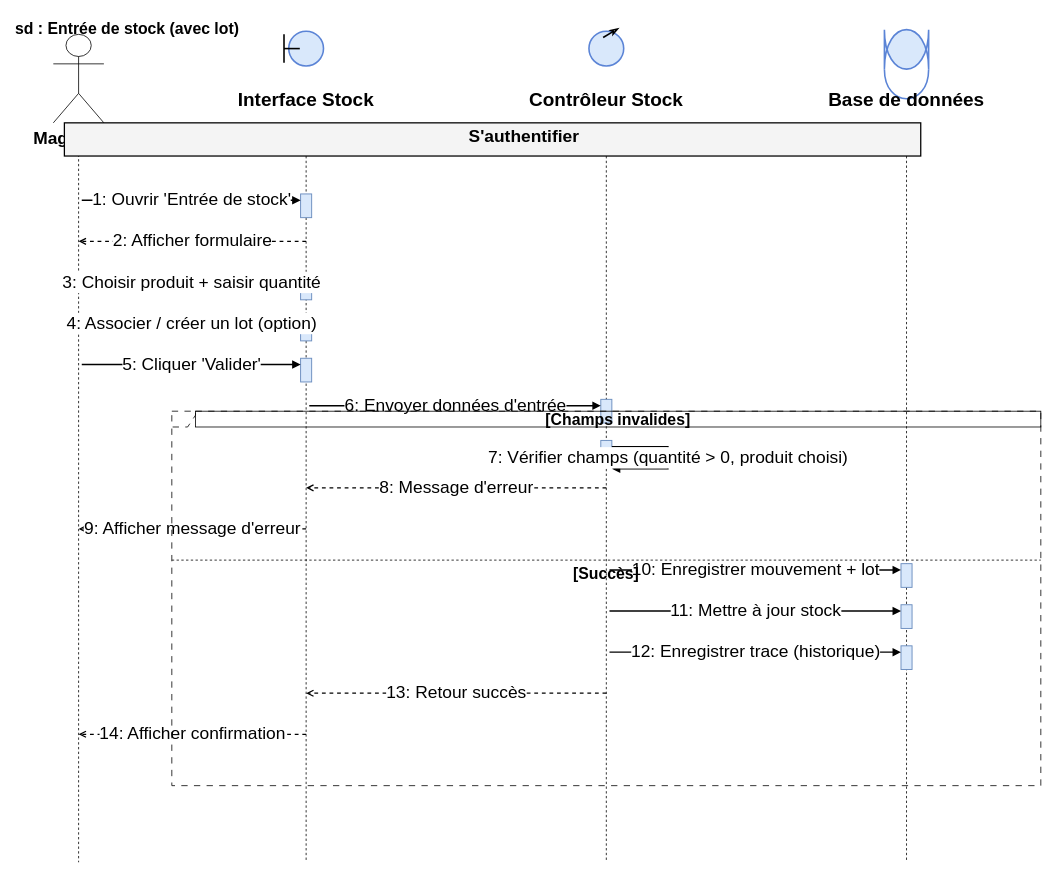
The diagram is 1055 pixels wide and 877 high, and some of its shapes have lost their labels. Each missing label, with the box of its shape:
alt: (171, 410, 1041, 786)
Ref: (63, 122, 921, 156)
